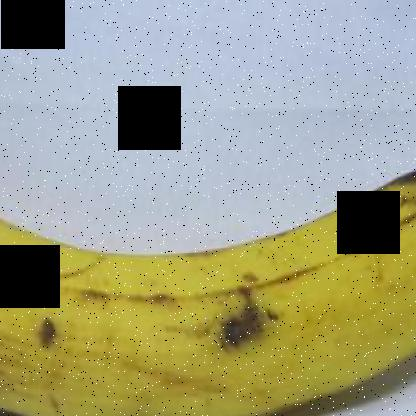ripe: (1, 155, 415, 415)
